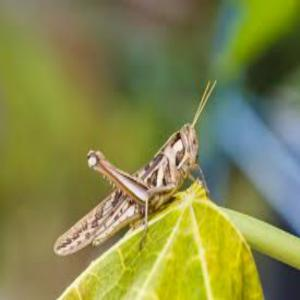locust: (58, 107, 212, 289)
